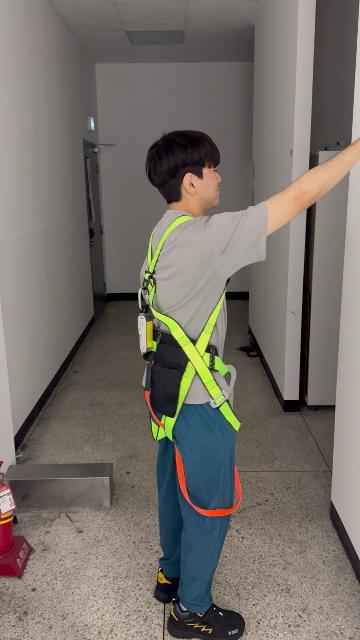helmet_not_worn: (145, 129, 223, 206)
shoe_worn: (168, 597, 243, 639), (154, 567, 180, 604)
vest_worn: (139, 224, 240, 436)
